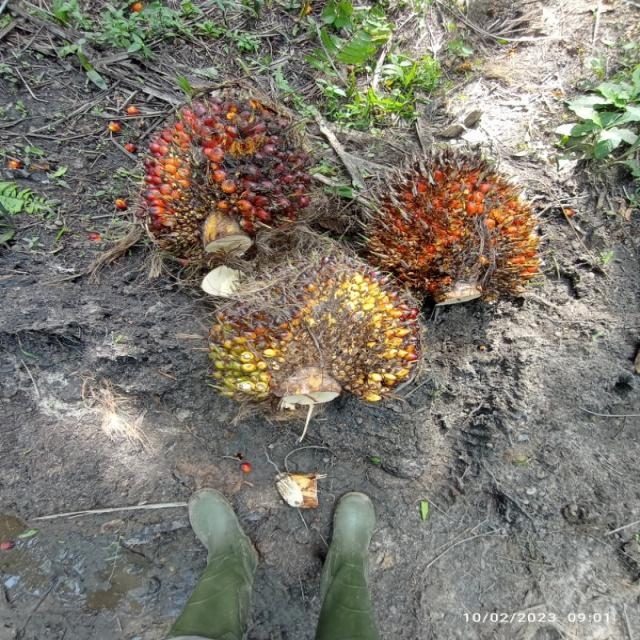fraksi 00: (176, 204, 452, 449)
fraksi 3: (128, 60, 366, 304)
fraksi 4: (365, 116, 551, 347)
